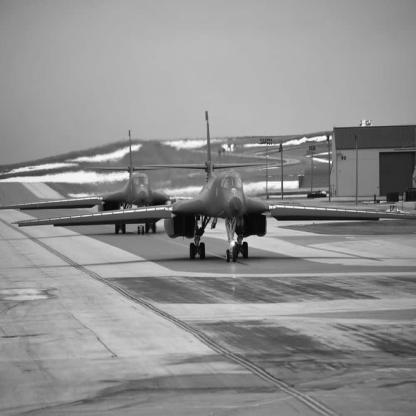B1: (12, 112, 416, 265), (1, 130, 195, 236)
